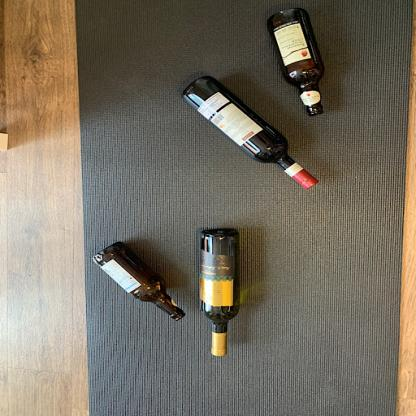trash: (179, 73, 321, 191), (90, 239, 193, 325), (260, 11, 331, 117), (196, 229, 244, 358)
